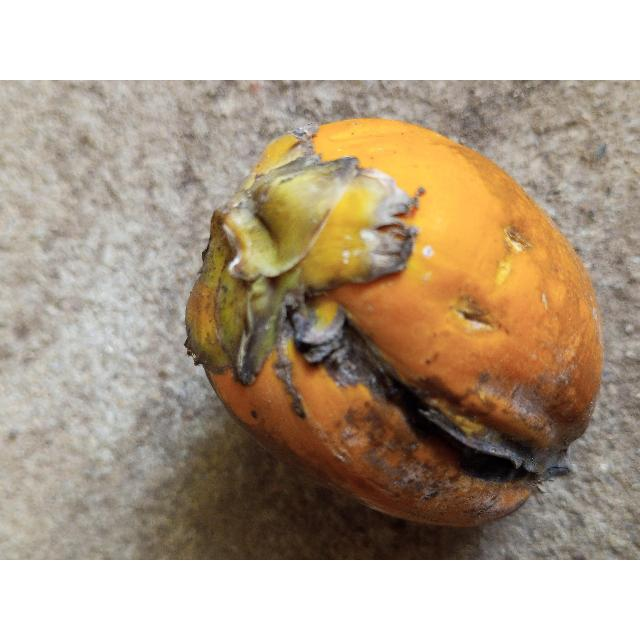damaged: (186, 118, 604, 530)
